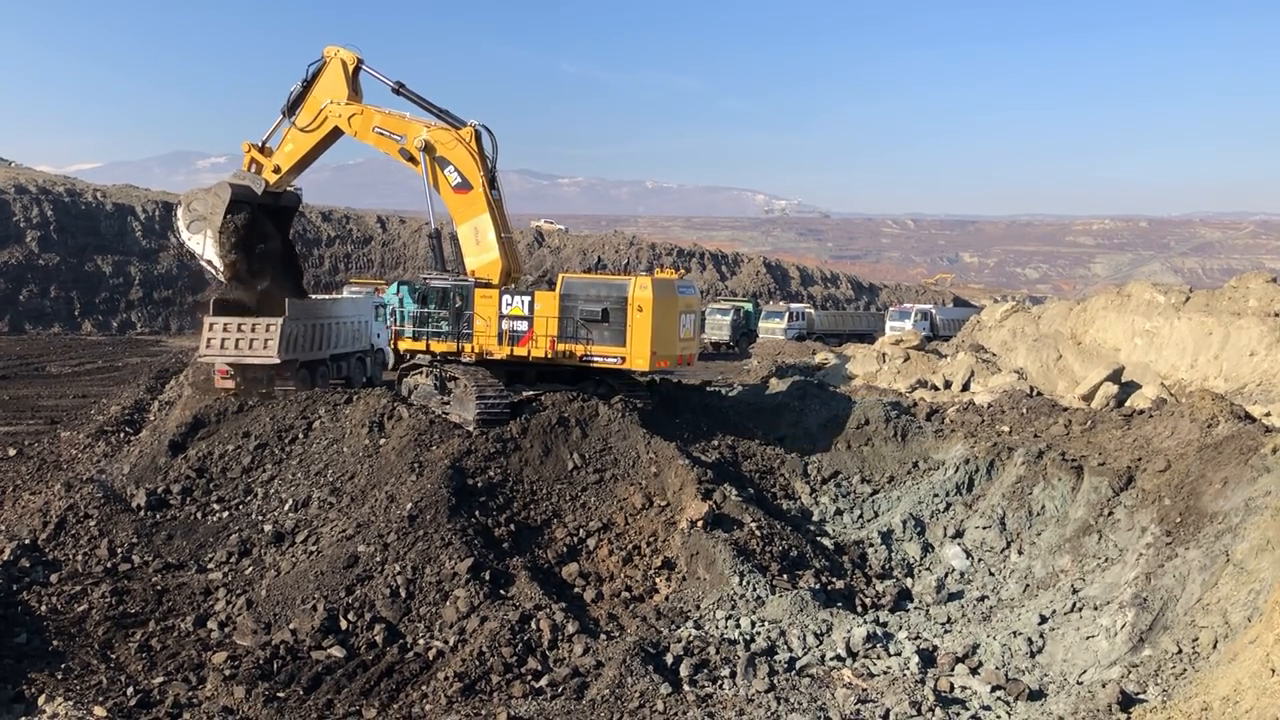full: (172, 173, 312, 288)
